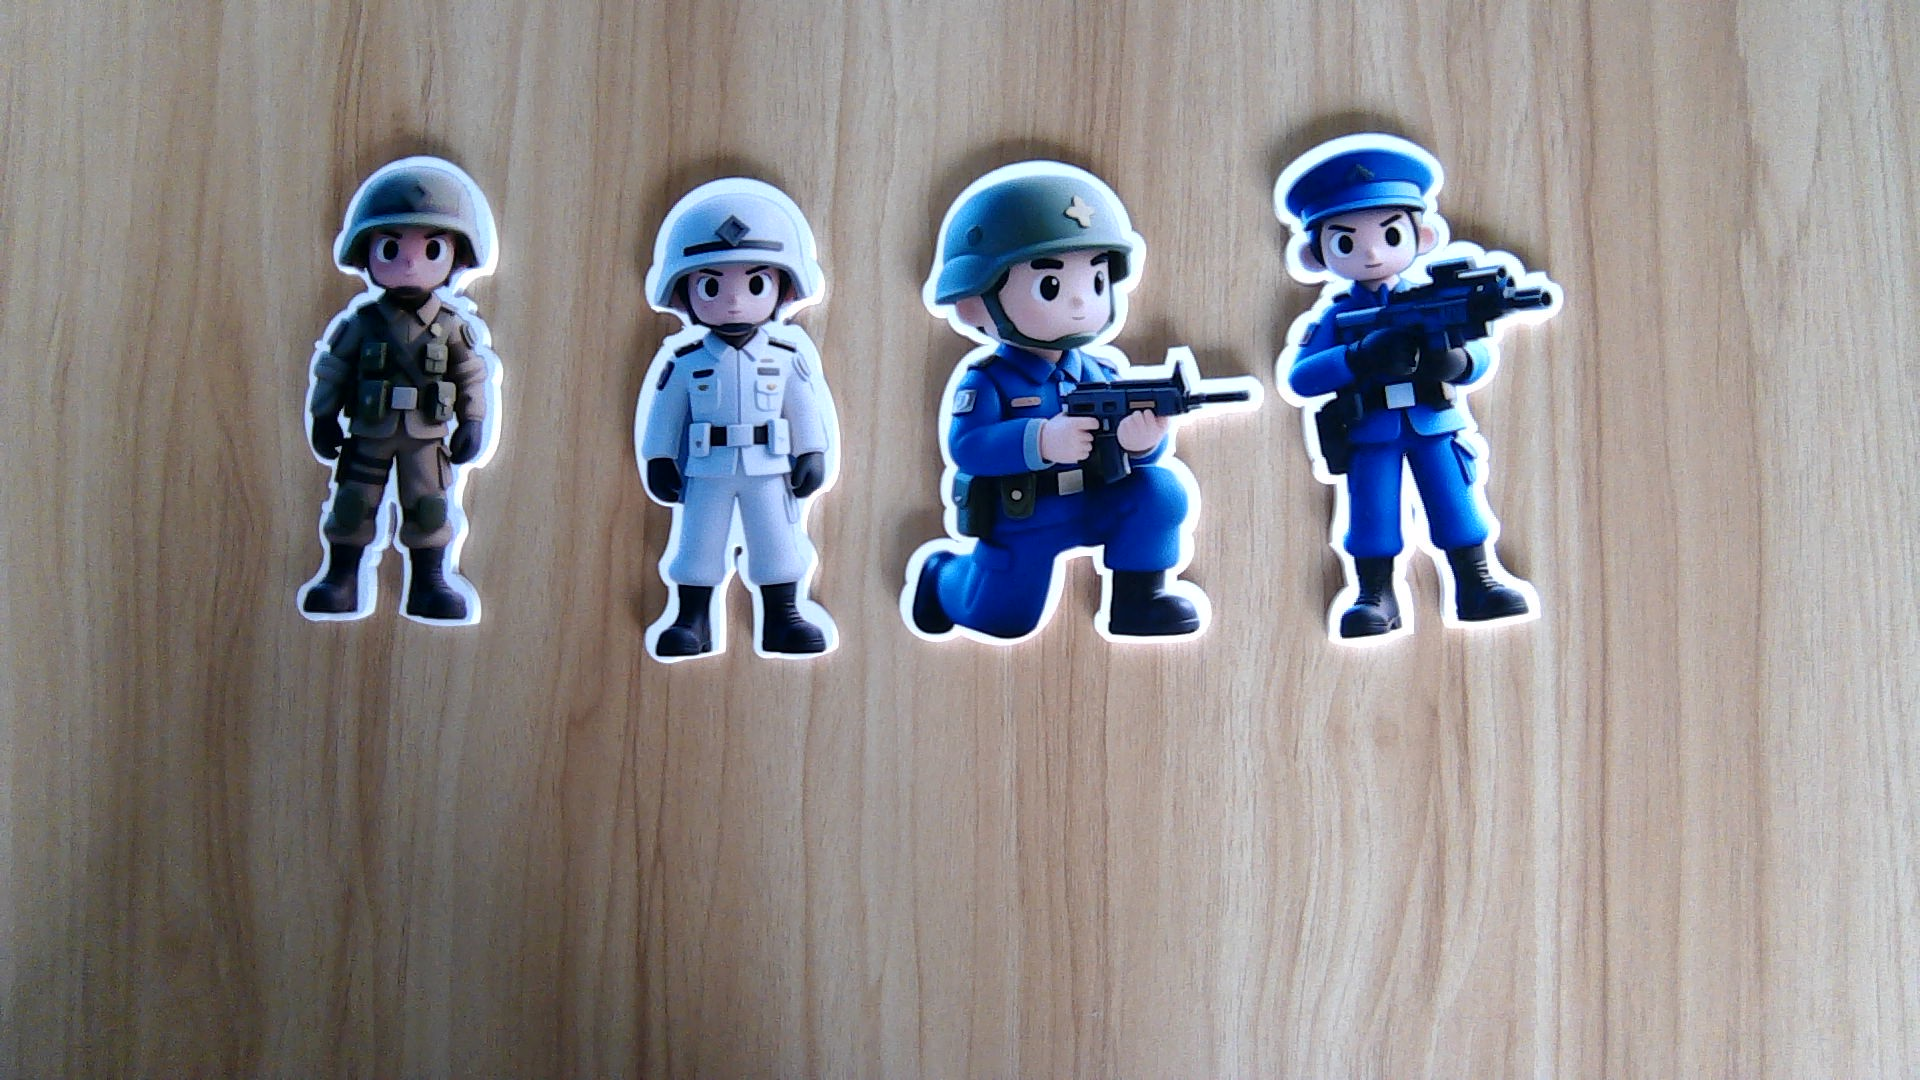人质: (620, 324, 851, 666)
友军: (290, 287, 516, 636)
敌人2: (1269, 276, 1571, 642), (895, 351, 1244, 647)
